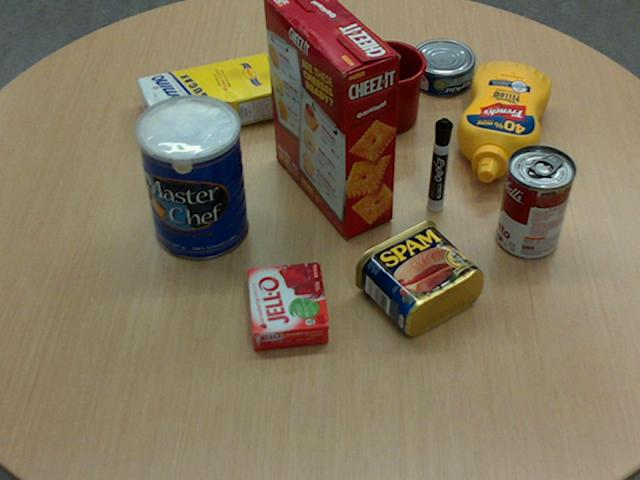cracker_box: (264, 0, 397, 237)
gelatin_box: (248, 262, 328, 349)
large_marker: (427, 118, 452, 211)
master_chef_can: (135, 94, 248, 260)
mug: (349, 40, 427, 133)
mustard_bottle: (456, 61, 549, 182)
potted_meat_can: (353, 218, 482, 334)
sugar_box: (136, 51, 294, 142)
tomato_soup_can: (496, 144, 575, 258)
tuna_fish_can: (408, 38, 474, 95)
